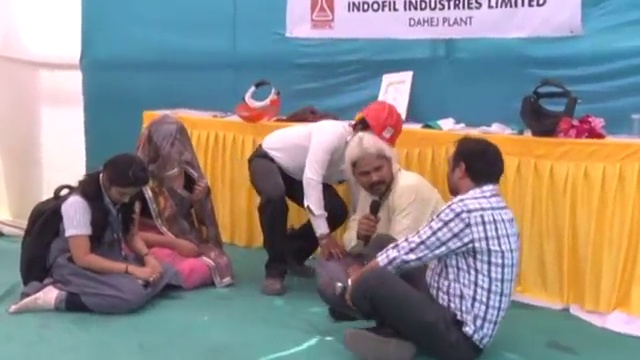helmet: (362, 100, 405, 146)
helmet_off: (446, 136, 506, 199), (92, 155, 154, 212), (139, 121, 195, 184), (348, 140, 397, 197)
helmet_on: (346, 100, 404, 148)
person: (318, 131, 521, 358), (250, 99, 406, 299), (11, 152, 178, 315), (318, 138, 447, 301), (127, 114, 225, 287)
